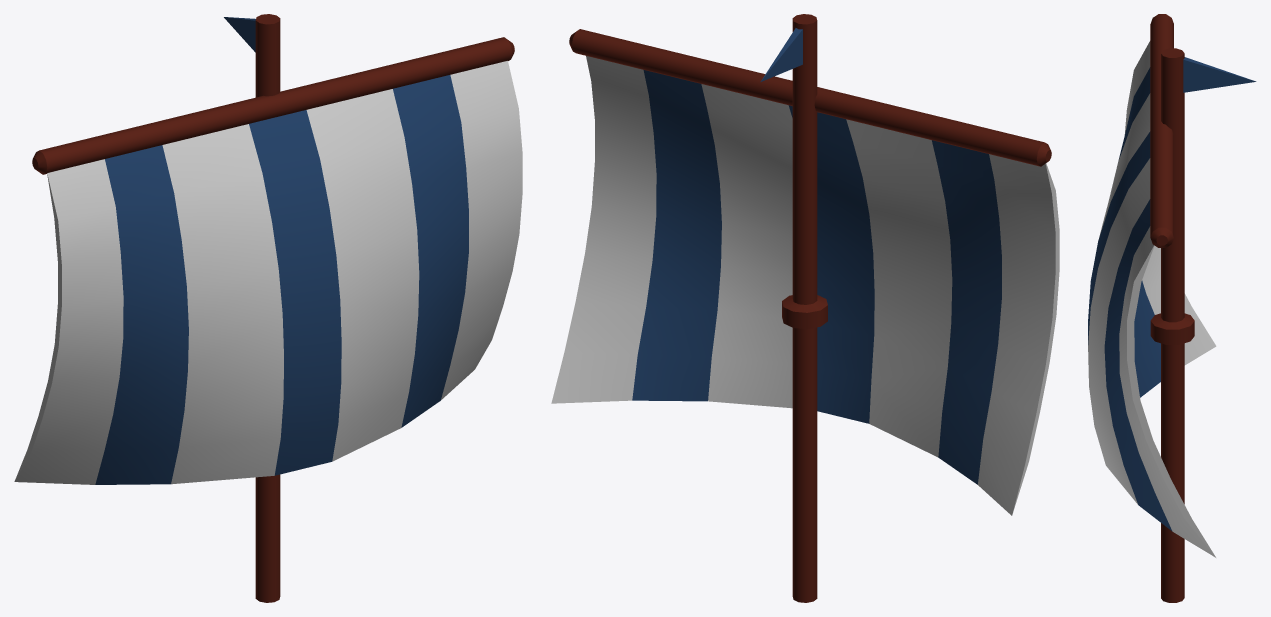
The model's file is longboatSail_mini.obj.
3 renders of one model, left to right at view 1: azimuth 30°, elevation 25°; view 2: azimuth 150°, elevation 25°; view 3: azimuth 270°, elevation 25°, orthographic. The views are drawn at different scales.
Parts seen in each view (by area): view 1: longboatSail_mini_Cylinder.390; view 2: longboatSail_mini_Cylinder.390; view 3: longboatSail_mini_Cylinder.390.
Part boxes in pixels (bbox=[...]): longboatSail_mini_Cylinder.390: bbox=[14, 14, 522, 602]; longboatSail_mini_Cylinder.390: bbox=[551, 14, 1059, 602]; longboatSail_mini_Cylinder.390: bbox=[1088, 14, 1256, 602].
Size of the model in its own units: 1.99 by 2.31 by 0.6474.
